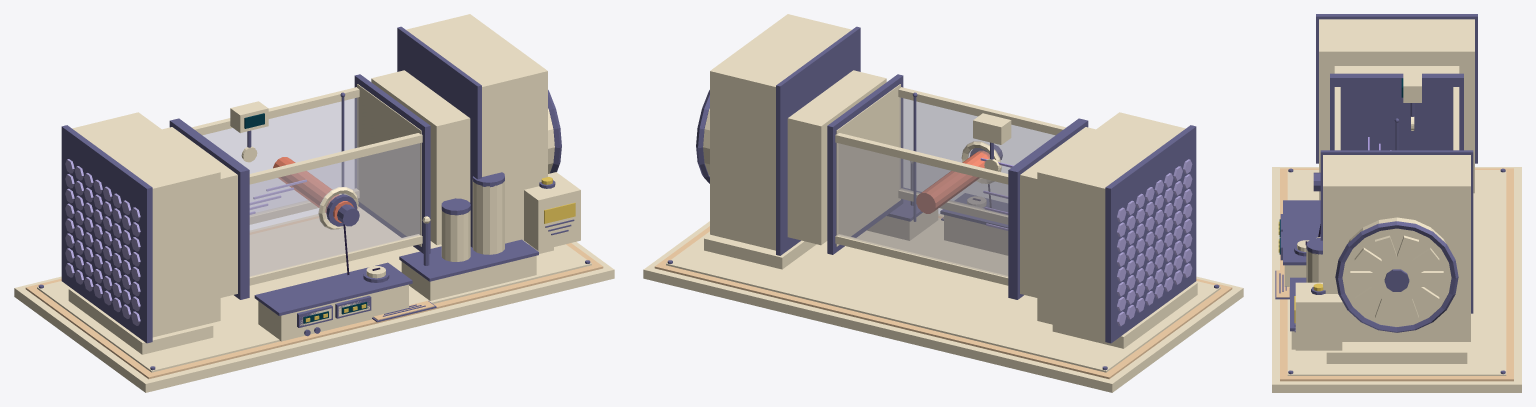
3 views of the same model, side by side, from view 1: azimuth 30°, elevation 25°; view 2: azimuth 150°, elevation 25°; view 3: azimuth 270°, elevation 25° (orthographic). The views are drawn at different scales.
Parts seen in each view (by area): view 1: tube_cream, tube_steel, tube_glass, tube_sand, tube_peach, tube_coral, tube_yellow, tube_teal; view 2: tube_cream, tube_steel, tube_glass, tube_sand, tube_peach, tube_coral; view 3: tube_cream, tube_steel, anim_spin_x_helice, tube_peach.
Part boxes in pixels (left/top/right/bottom): tube_cream: left=14, top=14, right=614, bottom=392; tube_steel: left=38, top=26, right=590, bottom=370; tube_glass: left=203, top=98, right=420, bottom=276; tube_sand: left=65, top=159, right=140, bottom=325; tube_peach: left=25, top=206, right=603, bottom=379; tube_coral: left=273, top=157, right=353, bottom=222; tube_yellow: left=305, top=177, right=575, bottom=322; tube_teal: left=244, top=113, right=367, bottom=323; tube_cream: left=643, top=14, right=1243, bottom=392; tube_steel: left=667, top=26, right=1219, bottom=370; tube_glass: left=836, top=97, right=1054, bottom=276; tube_sand: left=1117, top=159, right=1192, bottom=326; tube_peach: left=654, top=216, right=1232, bottom=379; tube_coral: left=916, top=150, right=989, bottom=213; tube_cream: left=1272, top=19, right=1521, bottom=392; tube_steel: left=1275, top=14, right=1505, bottom=374; anim_spin_x_helice: left=1350, top=235, right=1443, bottom=322; tube_peach: left=1276, top=168, right=1513, bottom=381.
Size of the model in its own units: 3.3 by 1.35 by 1.6.
